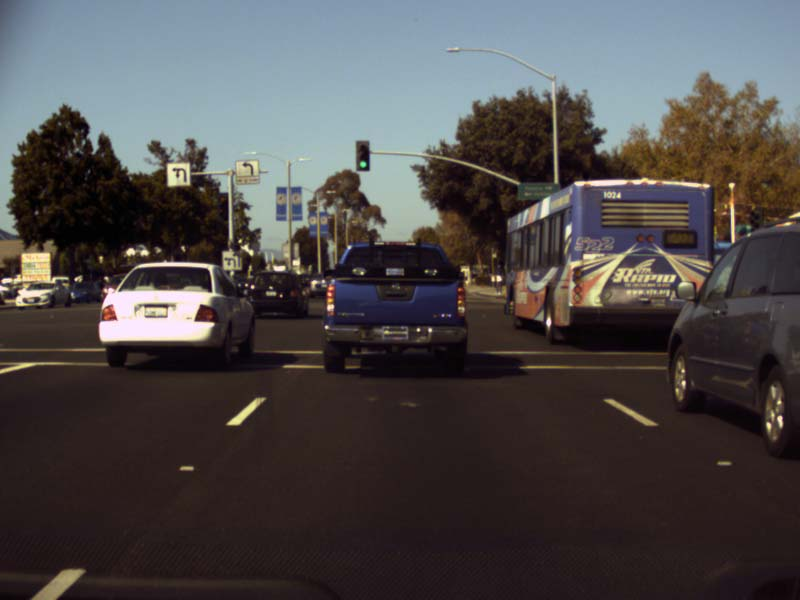Green: (355, 139, 369, 171)
